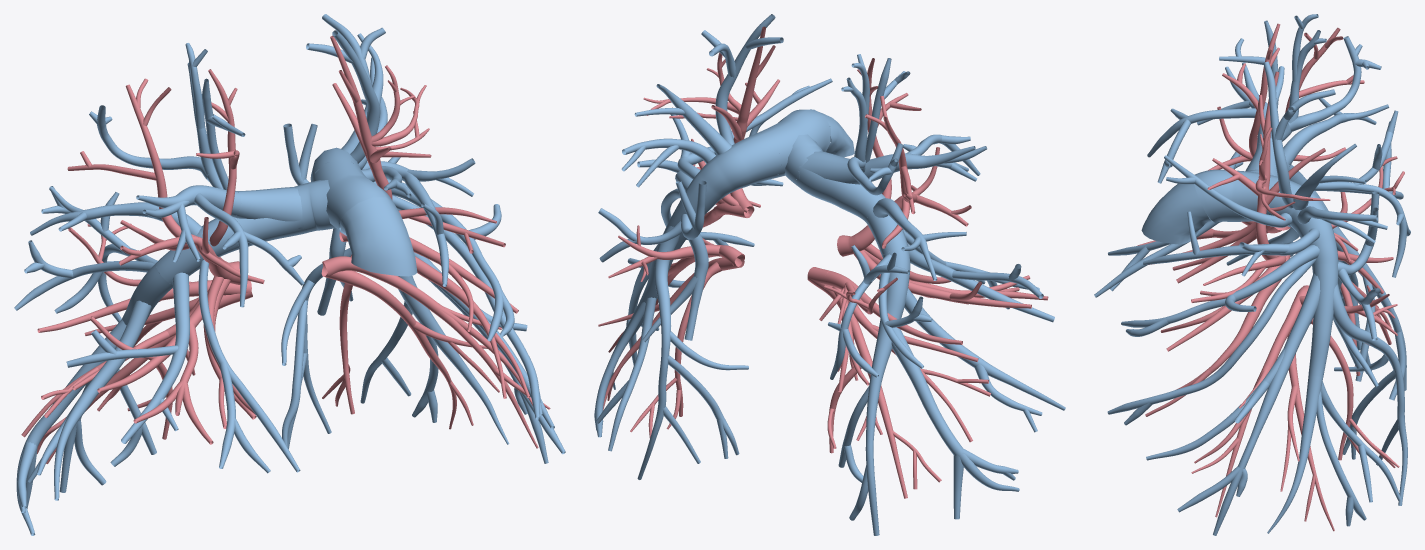
Rendered from z-anatomy-pulmonary-vessels.glb.
3 views of the same model, side by side, from view 1: azimuth 30°, elevation 25°; view 2: azimuth 150°, elevation 25°; view 3: azimuth 270°, elevation 25° (orthographic). The views are drawn at different scales.
Parts seen in each view (by area): view 1: pulmonary-arteries-pulmonary-trunk__Pulmonary trunk, pulmonary-arteries-anterior-segmental-artery-of-right-lung__, pulmonary-arteries-apical-segmental-artery-of-right-lung__Ap, pulmonary-arteries-superior-segmental-artery-of-right-lung__, pulmonary-arteries-bifurcation-of-pulmonary-trunk__Bifurcati, pulmonary-veins-apicoposterior-vein-of-left-lung__Apicoposte, pulmonary-arteries-lateral-segmental-artery-of-right-lung__L, pulmonary-arteries-anterior-basal-segmental-artery-of-left-l, pulmonary-arteries-medial-segmental-artery-of-right-lung__Me, pulmonary-veins-posterior-vein-of-right-lung__Posterior vein, pulmonary-arteries-posterior-basal-segmental-artery-of-left-, pulmonary-arteries-lateral-basal-segmental-artery-of-right-l (+30 smaller); view 2: pulmonary-arteries-left-pulmonary-artery__Left pulmonary art, pulmonary-arteries-posterior-basal-segmental-artery-of-left-, pulmonary-arteries-superior-segmental-artery-of-right-lung__, pulmonary-arteries-apical-segmental-artery-of-right-lung__Ap, pulmonary-arteries-anterior-basal-segmental-artery-of-right-, pulmonary-arteries-anterior-basal-segmental-artery-of-left-l, pulmonary-arteries-posterior-segmental-artery-of-left-lung__, pulmonary-arteries-bifurcation-of-pulmonary-trunk__Bifurcati, pulmonary-veins-apicoposterior-vein-of-left-lung__Apicoposte, pulmonary-veins-inferior-basal-vein-of-right-lung__Inferior , pulmonary-arteries-posterior-basal-segmental-artery-of-right, pulmonary-arteries-lateral-basal-segmental-artery-of-right-l (+29 smaller); view 3: pulmonary-arteries-lateral-basal-segmental-artery-of-left-lu, pulmonary-arteries-anterior-basal-segmental-artery-of-left-l, pulmonary-arteries-left-pulmonary-artery__Left pulmonary art, pulmonary-arteries-anterior-segmental-artery-of-left-lung__A, pulmonary-arteries-apical-segmental-artery-of-right-lung__Ap, pulmonary-arteries-posterior-basal-segmental-artery-of-left-, pulmonary-veins-apicoposterior-vein-of-left-lung__Apicoposte, pulmonary-arteries-pulmonary-trunk__Pulmonary trunk, pulmonary-arteries-superior-lingular-artery-of-left-lung__Su, pulmonary-arteries-inferior-lingular-artery-of-left-lung__In, pulmonary-veins-superior-vein-of-left-lung__Superior vein of, pulmonary-arteries-superior-segmental-artery-of-right-lung__ (+25 smaller).
Part boxes in pixels (<box>): pulmonary-arteries-pulmonary-trunk__Pulmonary trunk: <box>339,197,417,276</box>; pulmonary-arteries-anterior-segmental-artery-of-right-lung__: <box>136,185,304,307</box>; pulmonary-arteries-apical-segmental-artery-of-right-lung__Ap: <box>89,43,245,190</box>; pulmonary-arteries-superior-segmental-artery-of-right-lung__: <box>14,186,159,322</box>; pulmonary-arteries-bifurcation-of-pulmonary-trunk__Bifurcati: <box>294,159,392,235</box>; pulmonary-veins-apicoposterior-vein-of-left-lung__Apicoposte: <box>330,35,431,199</box>; pulmonary-arteries-lateral-segmental-artery-of-right-lung__L: <box>66,272,189,443</box>; pulmonary-arteries-anterior-basal-segmental-artery-of-left-l: <box>360,298,509,444</box>; pulmonary-arteries-medial-segmental-artery-of-right-lung__Me: <box>198,260,300,473</box>; pulmonary-veins-posterior-vein-of-right-lung__Posterior vein: <box>67,78,198,265</box>; pulmonary-arteries-posterior-basal-segmental-artery-of-left-: <box>281,248,351,449</box>; pulmonary-arteries-lateral-basal-segmental-artery-of-right-l: <box>27,300,151,500</box>; pulmonary-arteries-left-pulmonary-artery__Left pulmonary art: <box>645,132,781,296</box>; pulmonary-arteries-posterior-basal-segmental-artery-of-left-: <box>637,225,748,479</box>; pulmonary-arteries-superior-segmental-artery-of-right-lung__: <box>828,245,932,379</box>; pulmonary-arteries-apical-segmental-artery-of-right-lung__Ap: <box>841,54,910,195</box>; pulmonary-arteries-anterior-basal-segmental-artery-of-right-: <box>891,327,1019,519</box>; pulmonary-arteries-anterior-basal-segmental-artery-of-left-l: <box>594,287,657,451</box>; pulmonary-arteries-posterior-segmental-artery-of-left-lung__: <box>621,84,731,187</box>; pulmonary-arteries-bifurcation-of-pulmonary-trunk__Bifurcati: <box>759,109,830,185</box>; pulmonary-veins-apicoposterior-vein-of-left-lung__Apicoposte: <box>643,26,779,195</box>; pulmonary-veins-inferior-basal-vein-of-right-lung__Inferior : <box>827,294,941,498</box>; pulmonary-arteries-posterior-basal-segmental-artery-of-right: <box>849,323,892,535</box>; pulmonary-arteries-lateral-basal-segmental-artery-of-right-l: <box>904,288,1065,432</box>; pulmonary-arteries-lateral-basal-segmental-artery-of-left-lu: <box>1146,273,1320,535</box>; pulmonary-arteries-anterior-basal-segmental-artery-of-left-l: <box>1267,375,1401,533</box>; pulmonary-arteries-left-pulmonary-artery__Left pulmonary art: <box>1266,176,1338,376</box>; pulmonary-arteries-anterior-segmental-artery-of-left-lung__A: <box>1143,155,1319,276</box>; pulmonary-arteries-apical-segmental-artery-of-right-lung__Ap: <box>1219,14,1381,141</box>; pulmonary-arteries-posterior-basal-segmental-artery-of-left-: <box>1333,283,1407,505</box>; pulmonary-veins-apicoposterior-vein-of-left-lung__Apicoposte: <box>1207,71,1330,260</box>; pulmonary-arteries-pulmonary-trunk__Pulmonary trunk: <box>1141,174,1212,244</box>; pulmonary-arteries-superior-lingular-artery-of-left-lung__Su: <box>1121,245,1319,336</box>; pulmonary-arteries-inferior-lingular-artery-of-left-lung__In: <box>1107,258,1316,425</box>; pulmonary-veins-superior-vein-of-left-lung__Superior vein of: <box>1191,285,1397,517</box>; pulmonary-arteries-superior-segmental-artery-of-right-lung__: <box>1314,110,1410,277</box>.
Size of the model in its own units: 0.256 by 0.2397 by 0.1658.
